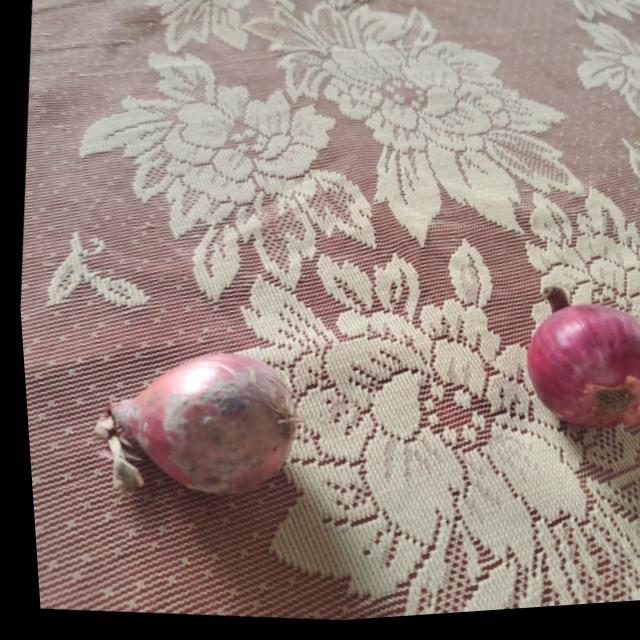onion: (83, 335, 298, 511), (512, 288, 640, 443)
